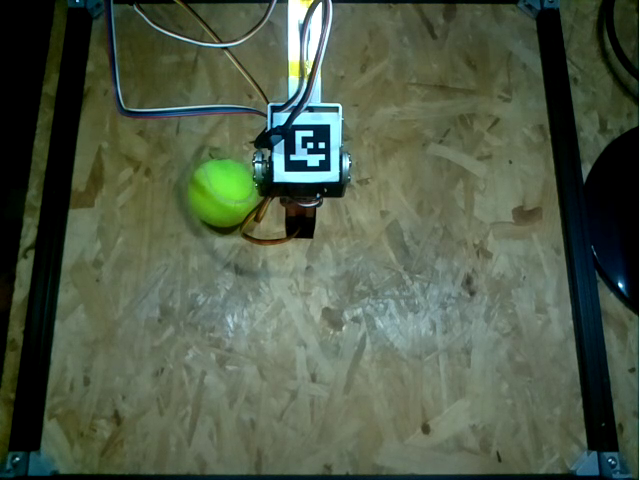tennis_ball: (185, 157, 258, 229)
